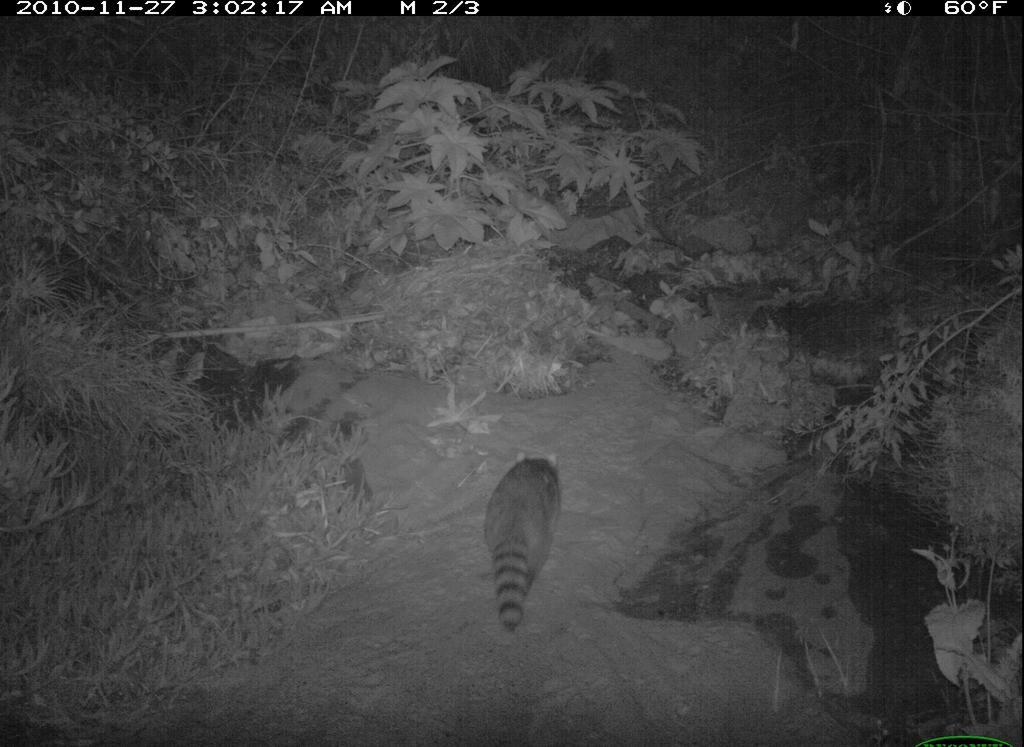raccoon: (475, 443, 582, 639)
